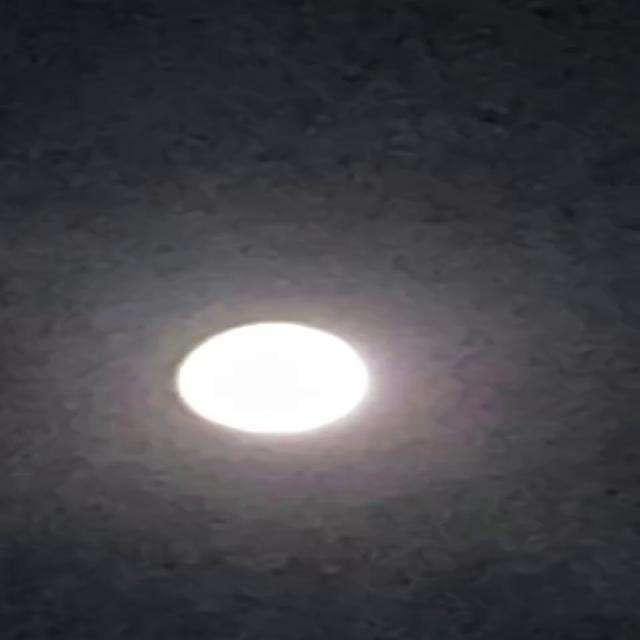moon: (165, 310, 395, 454)
